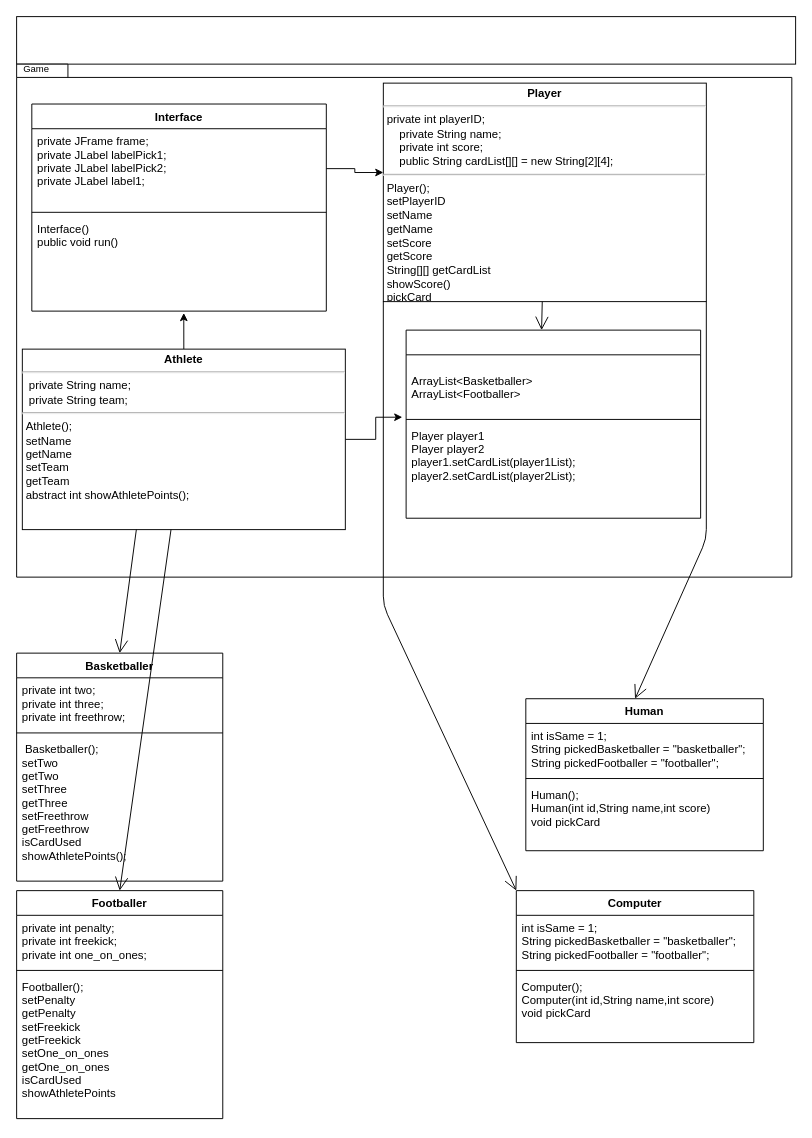
This 812x1138 diagram has some shape labels left out. The shapes that lost their labels are listed below. From the top down, each one's box as (x1, y1, x2, y2) in pixels, then its label:
(16, 16, 796, 64): SPORCU KART OYUNU
(405, 329, 701, 518): Process
